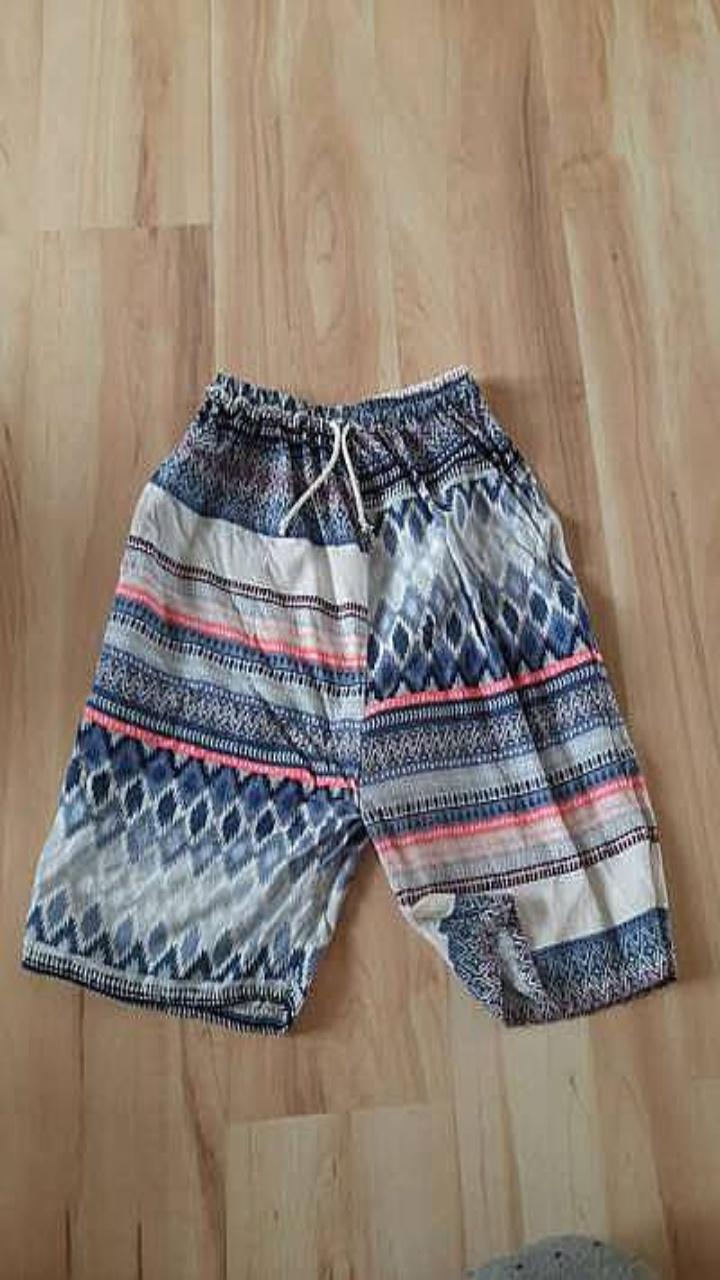Shorts: (22, 367, 674, 1031)
